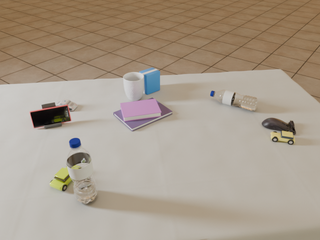book: (113, 98, 172, 131), (120, 99, 161, 122)
bottle: (66, 138, 98, 204), (210, 90, 258, 111)
box: (139, 68, 160, 95)
cup: (123, 72, 145, 101)
mouse: (262, 118, 296, 135)
phone: (30, 104, 71, 128)
toy_car: (50, 166, 72, 191), (271, 131, 295, 145), (56, 99, 77, 111)
